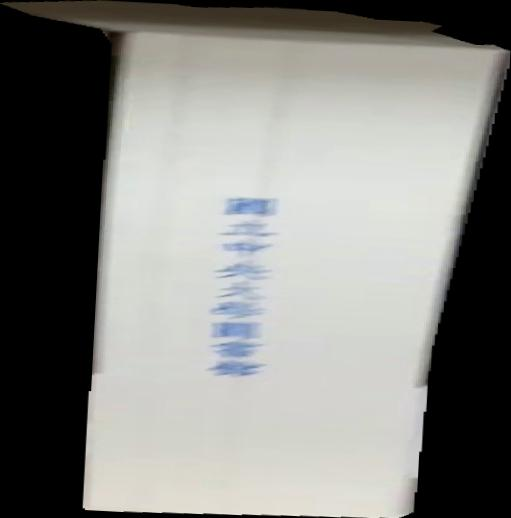backward: (1, 1, 511, 518)
